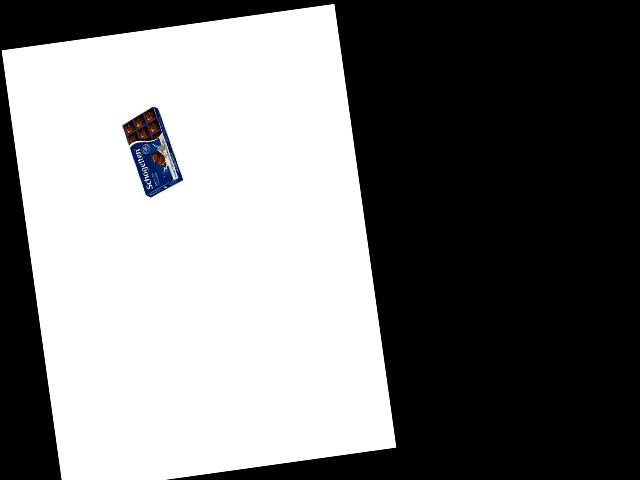chocolate: (120, 103, 177, 201)
